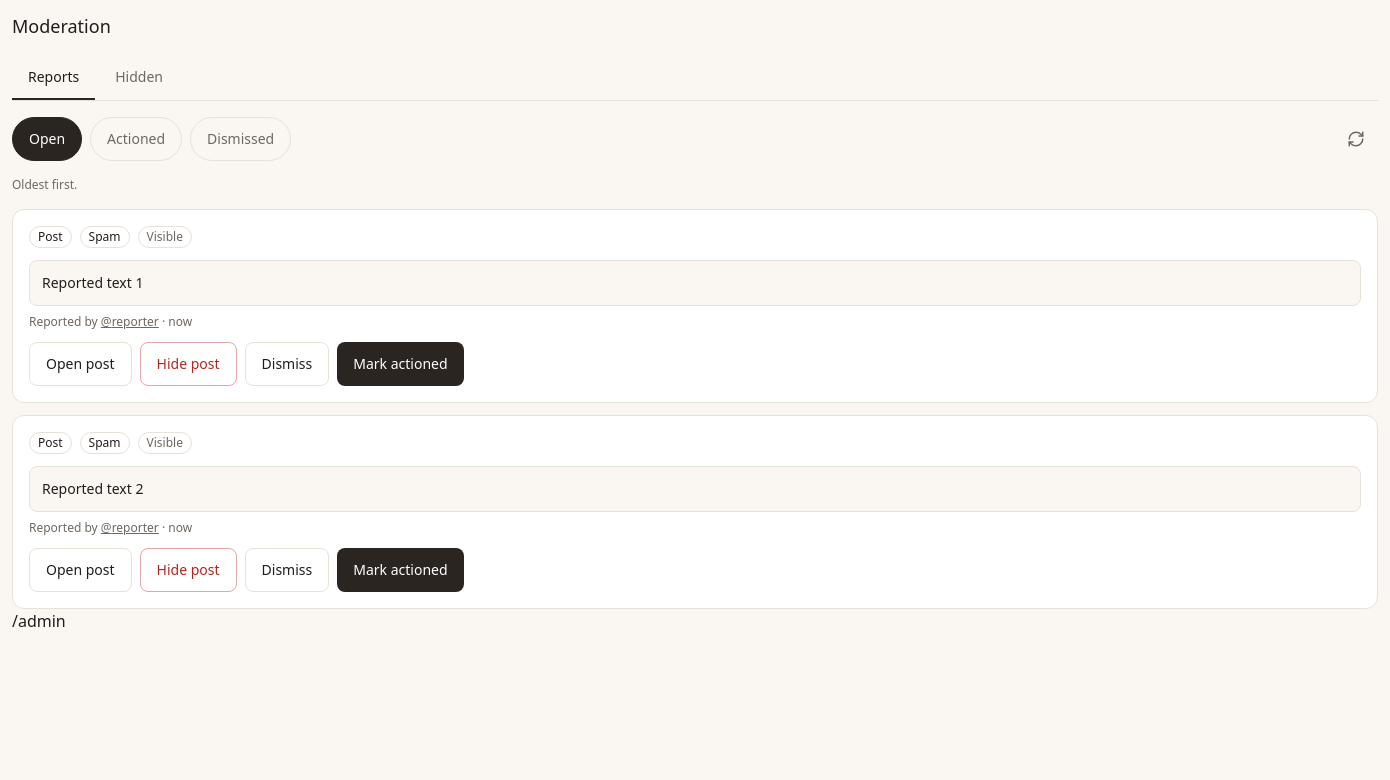
Scenario: resolving › marks a report actioned and it leaves the open queue
Expected: the text "Reported text 1" is shown, [29, 260, 1361, 306]
Click the button "Mark actioned" below "Reported text 1".
click(400, 364)  # box [337, 342, 464, 386]
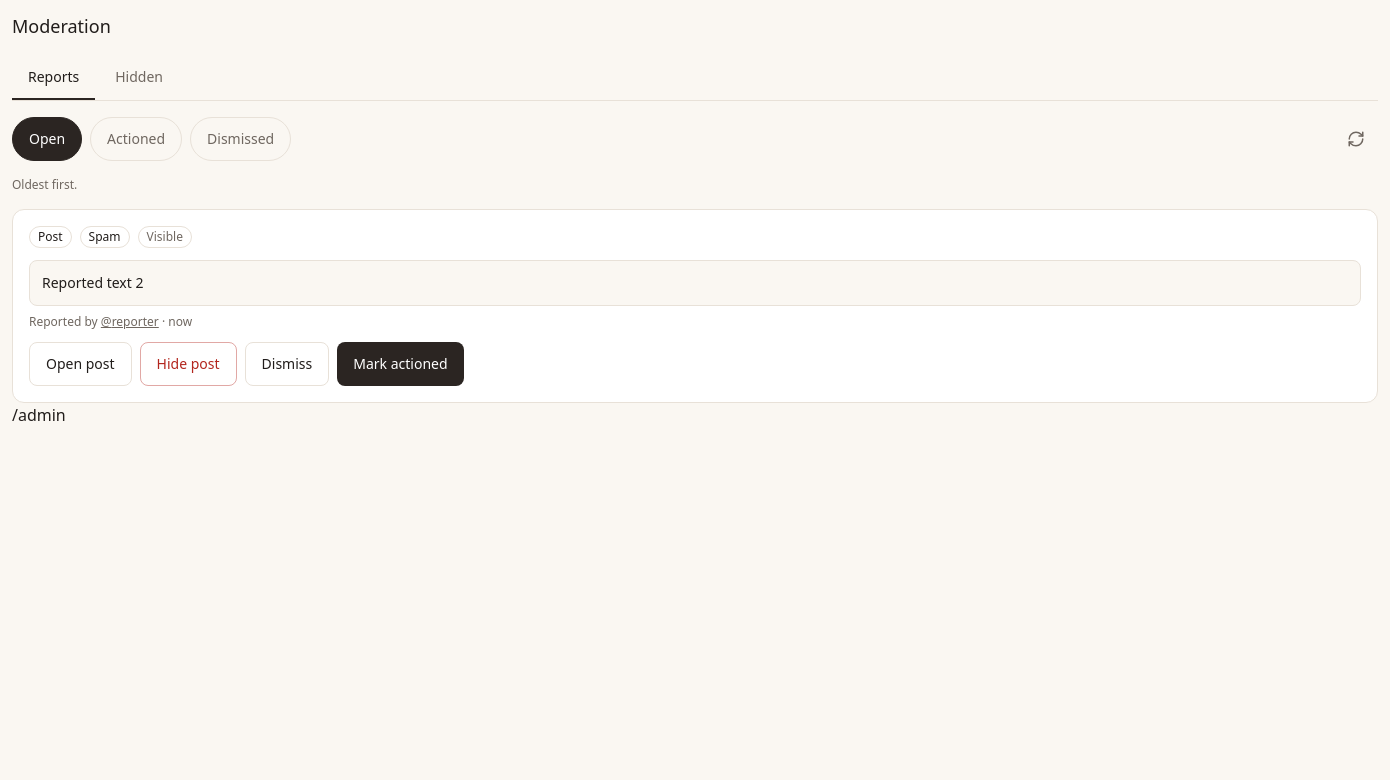
Expected: the text "Reported text 2" is shown, [29, 260, 1361, 306]
Expected: the text "Reported text 1" is gone
